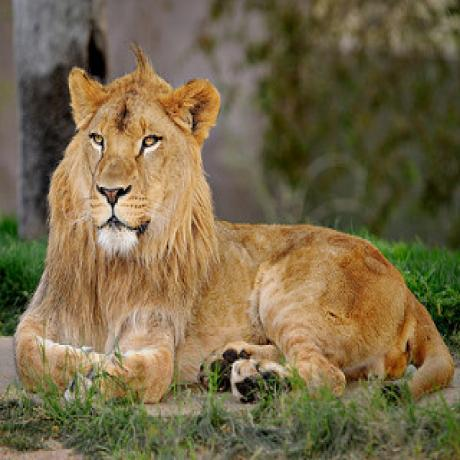Lion: (14, 40, 453, 403)
